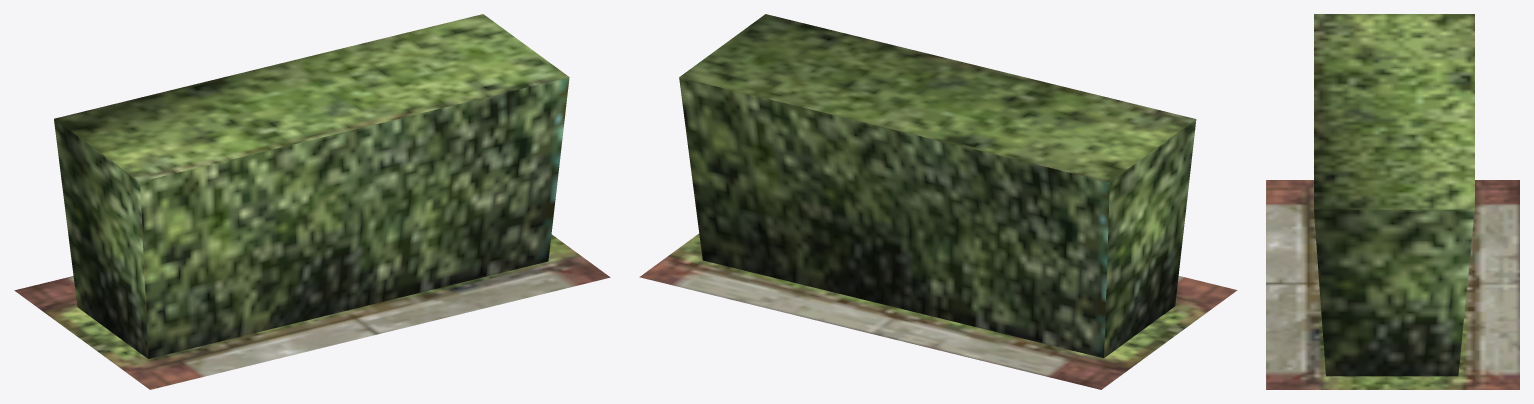
Rendered from Environment - Prop - N Hedge - PMNHedge.glb.
3 views of the same model, side by side, from view 1: azimuth 30°, elevation 25°; view 2: azimuth 150°, elevation 25°; view 3: azimuth 270°, elevation 25° (orthographic). The views are drawn at different scales.
Parts seen in each view (by area): view 1: PMNHEDGE; view 2: PMNHEDGE; view 3: PMNHEDGE.
Part boxes in pixels (x1,y1,x2,y2): PMNHEDGE: [14, 14, 610, 389]; PMNHEDGE: [639, 14, 1237, 389]; PMNHEDGE: [1266, 14, 1519, 389].
Bounding box in the file's own units: 10.96 × 4.57 × 5.6.
Materials: 1 (1 with a texture image).
